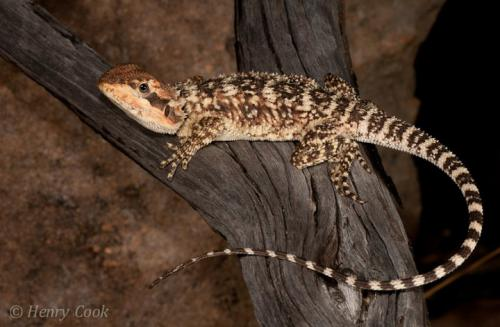bearded: (94, 57, 483, 301)
